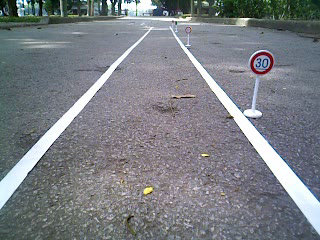limit 30: (247, 49, 277, 78)
